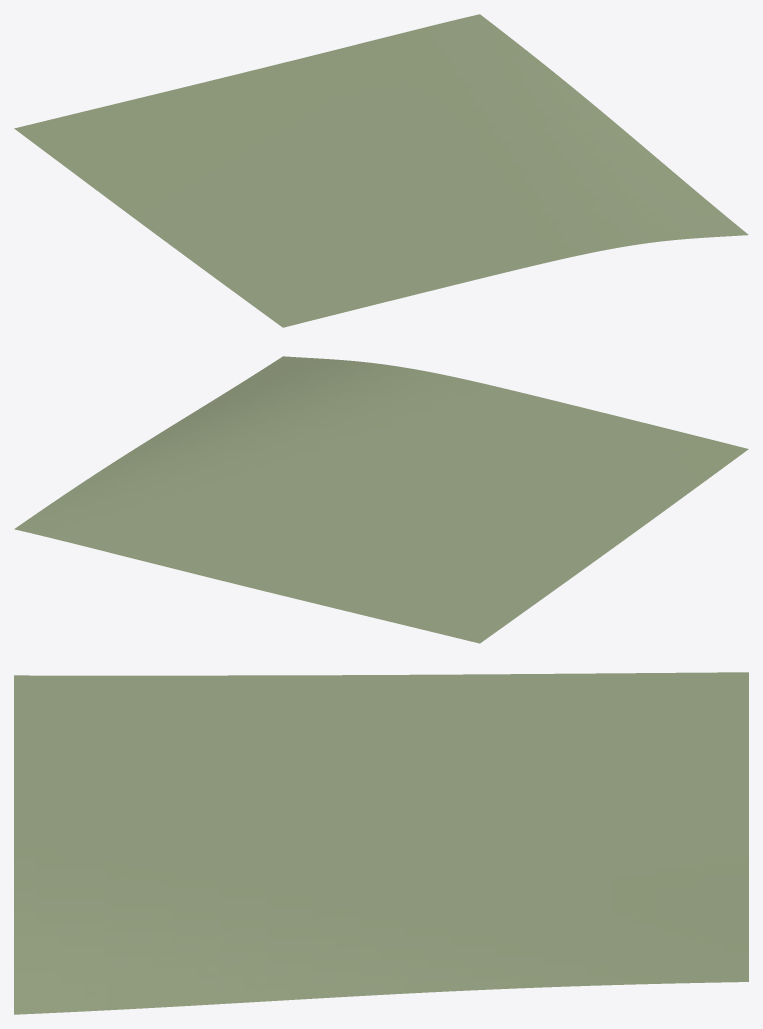
Rendered from desert-10-13.glb.
The picture shows the model from 3 angles, top to bottom: view 1: azimuth 30°, elevation 25°; view 2: azimuth 150°, elevation 25°; view 3: azimuth 270°, elevation 25°; orthographic projection. The views are drawn at different scales.
Parts seen in each view (by area): view 1: desert-10-13; view 2: desert-10-13; view 3: desert-10-13.
Boxes of the visible parts, <box> form: desert-10-13: <box>14,14,748,327</box>; desert-10-13: <box>14,356,748,643</box>; desert-10-13: <box>14,672,748,1014</box>.
Bounding box in the file's own units: 512 × 25.42 × 512.
